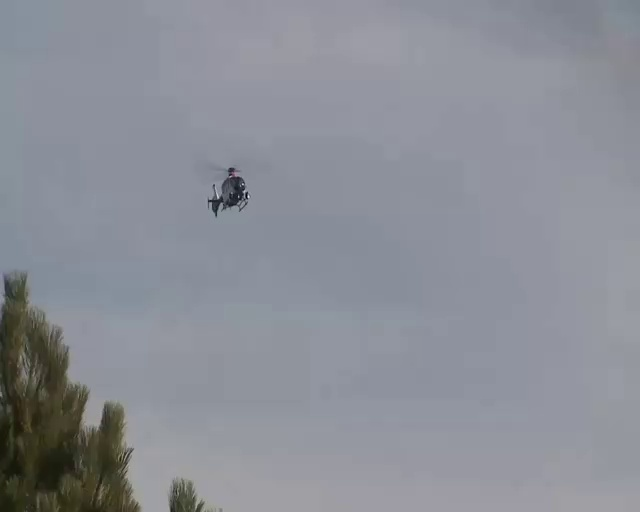HELICOPTER: (205, 164, 249, 217)
